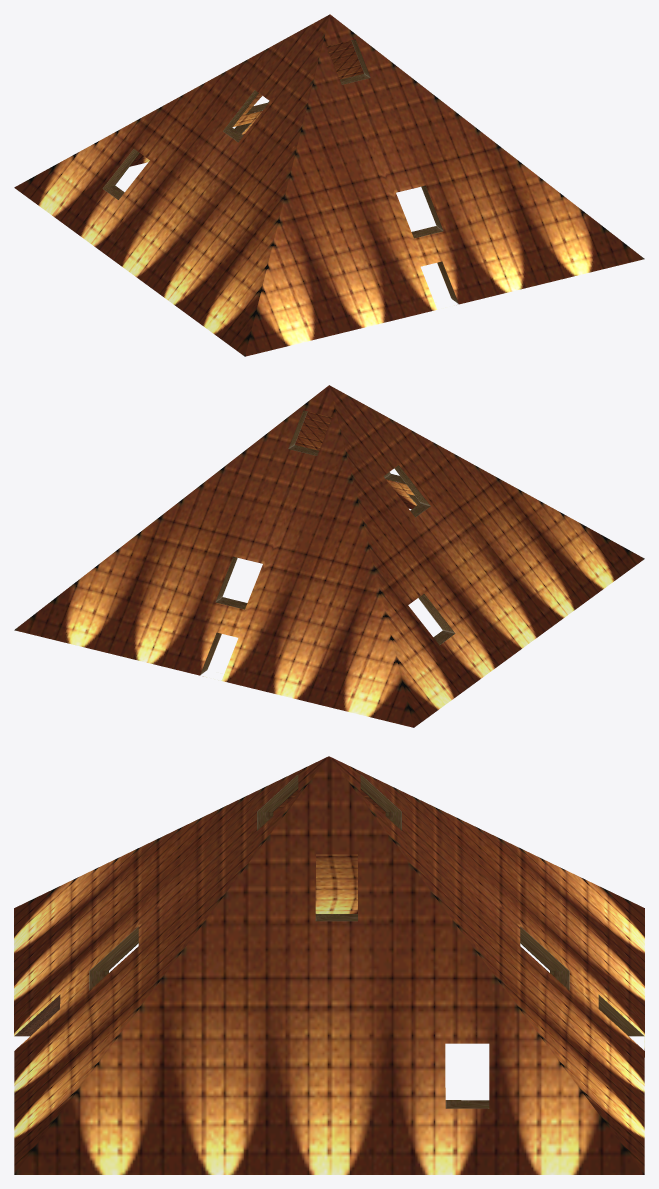
The picture shows the model from 3 angles, top to bottom: view 1: azimuth 30°, elevation 25°; view 2: azimuth 150°, elevation 25°; view 3: azimuth 270°, elevation 25°; orthographic projection. The views are drawn at different scales.
Visible parts, largest first — view 1: Pyramid03; view 2: Pyramid03; view 3: Pyramid03.
Boxes of the visible parts, x1,y1,x2,y2 form: Pyramid03: (14,14,644,356); Pyramid03: (14,385,644,727); Pyramid03: (14,756,644,1174).
Bounding box in the file's own units: 6505 × 3251 × 6507.
Materials: 1 (1 with a texture image).
